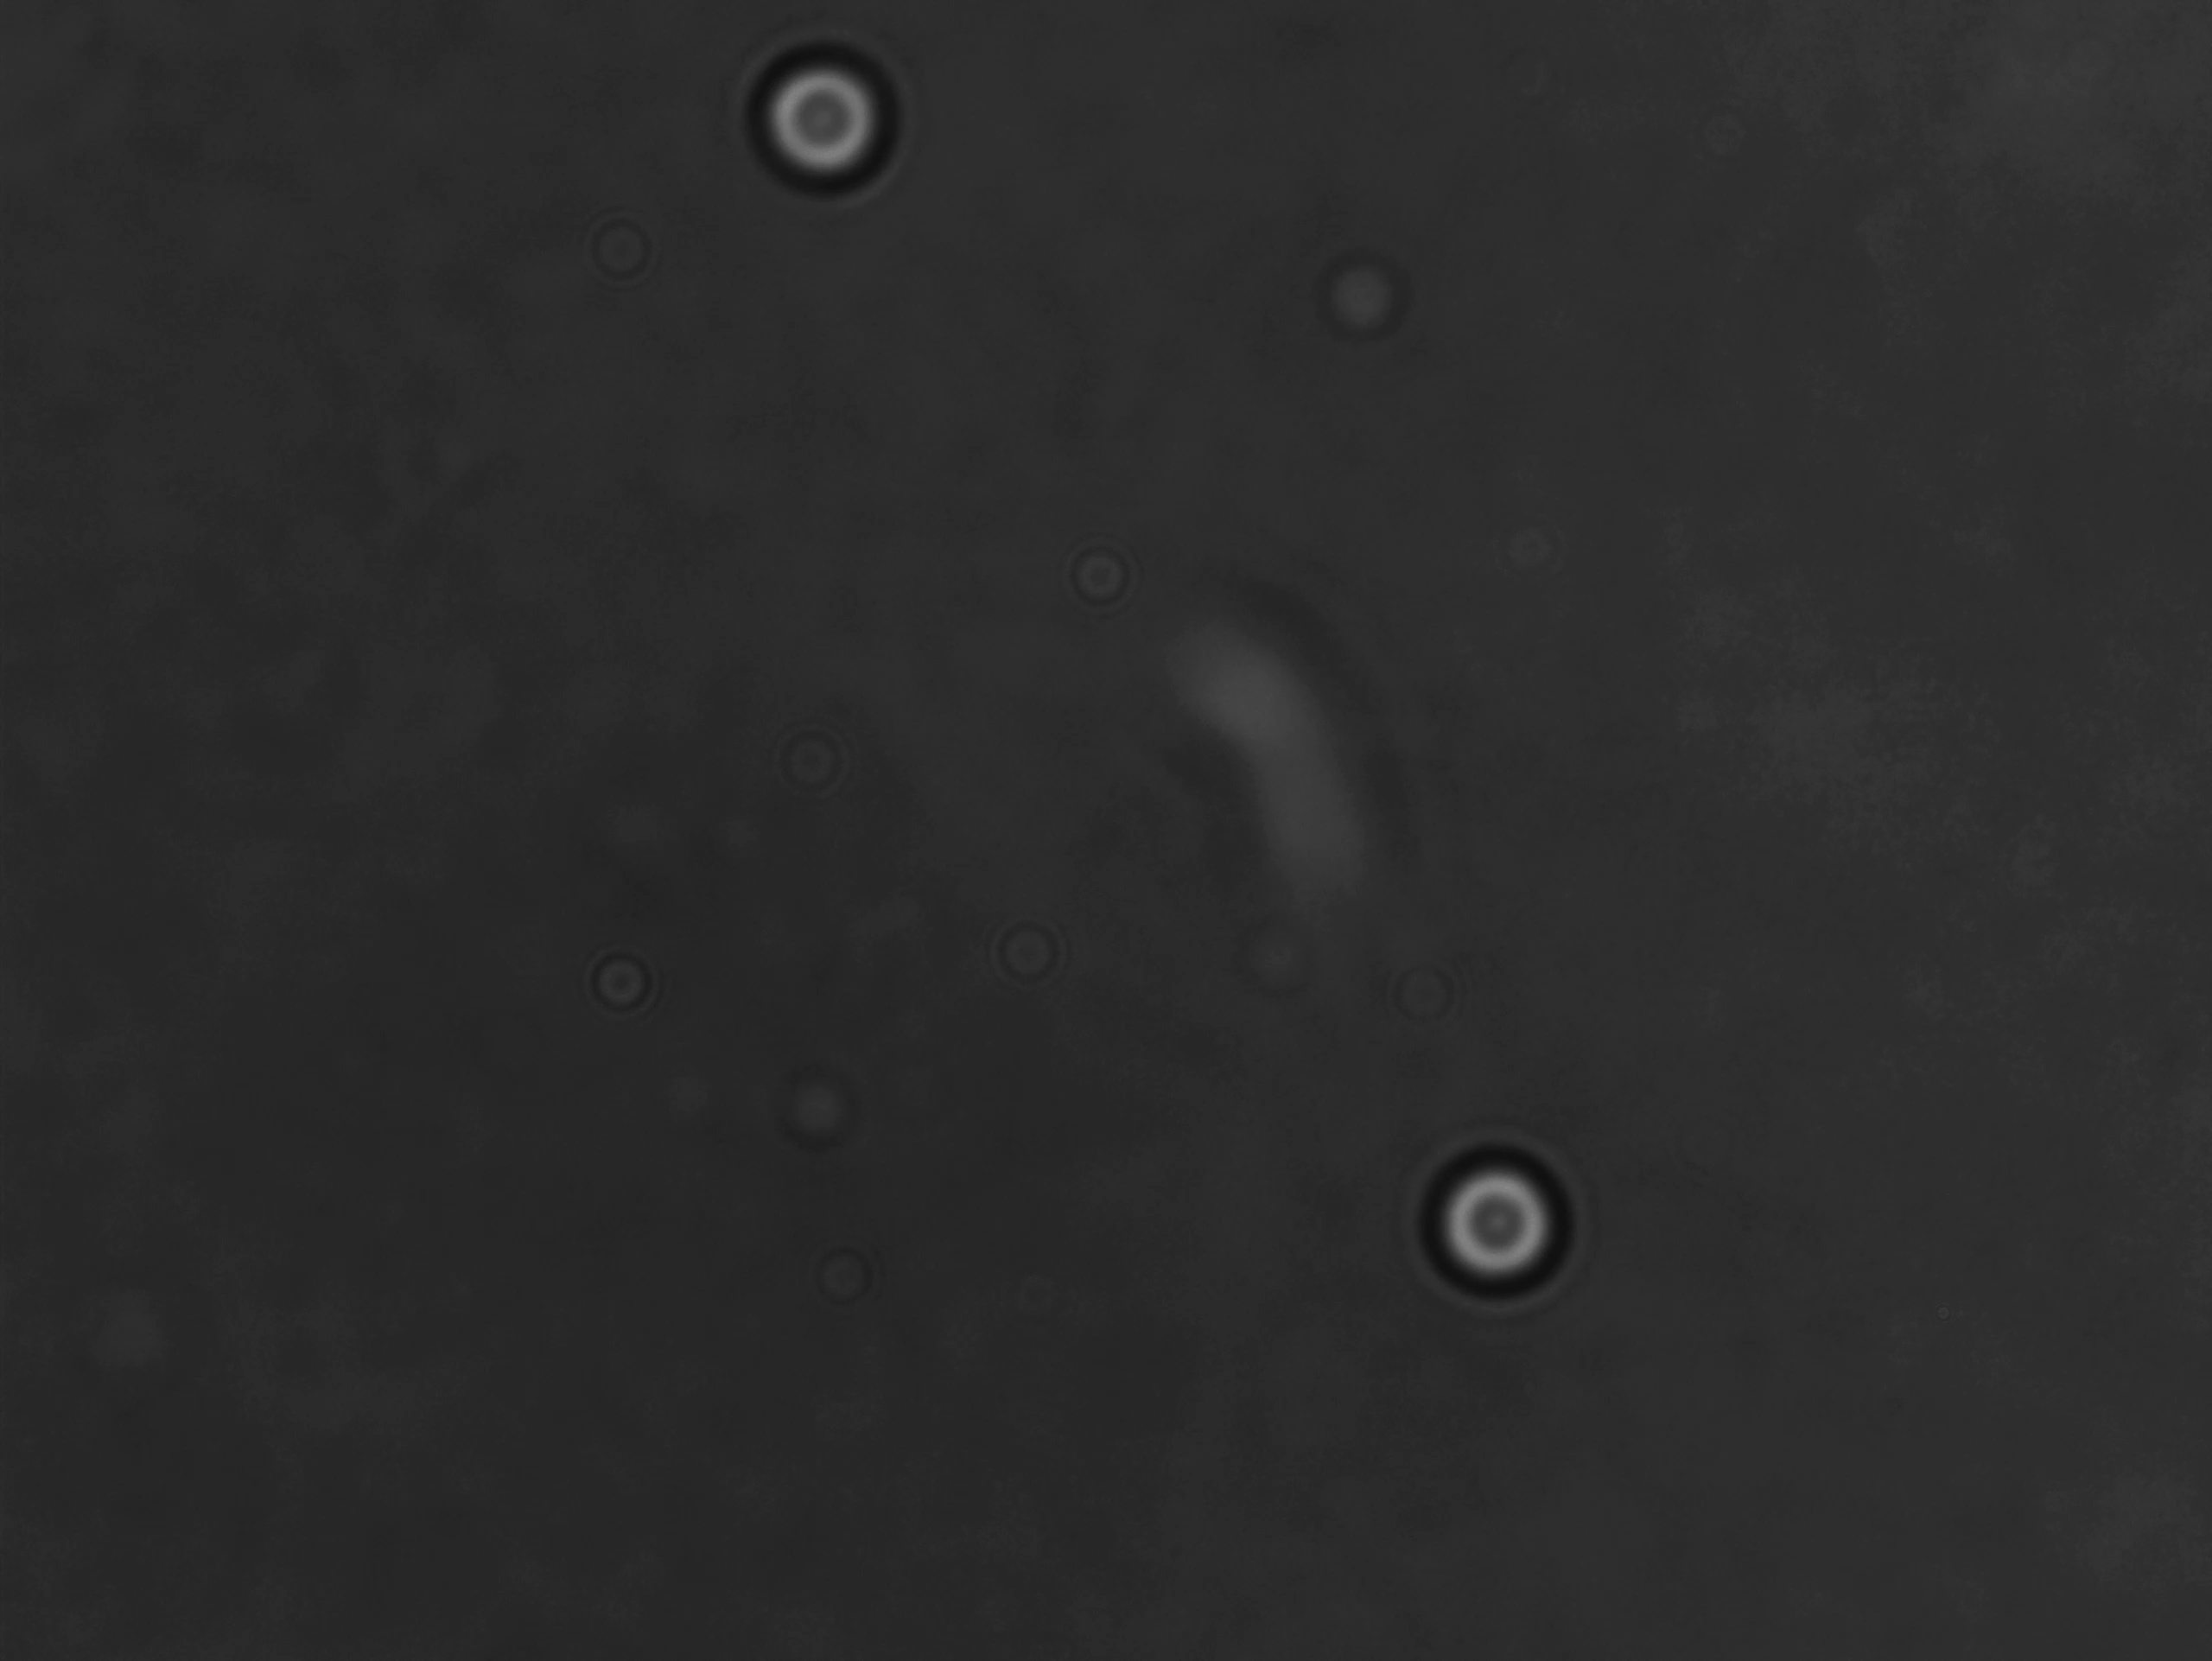depth:40: (1410, 1122, 1596, 1303), (743, 37, 909, 202)
